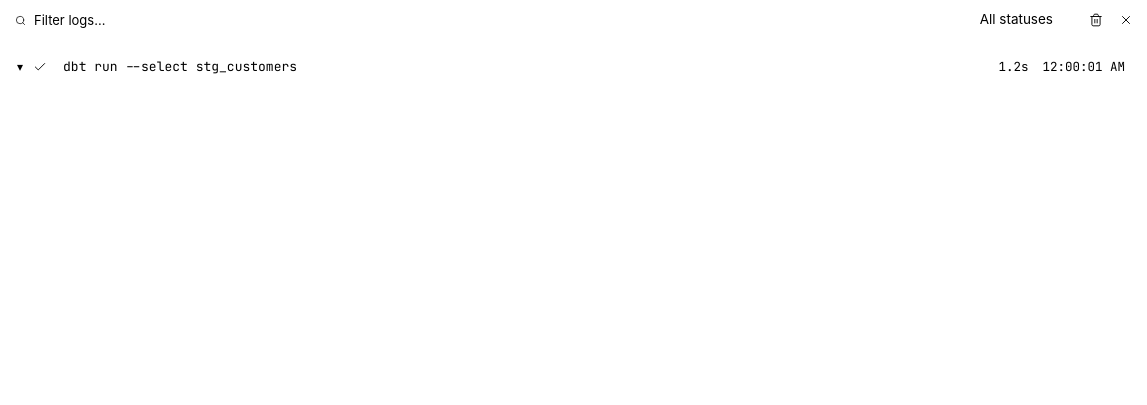
Test case: CommandLogsView › clears all logs via the clear button
Click the button titled "Clear logs" at (1096, 20), box left=1085, top=9, right=1107, bottom=31
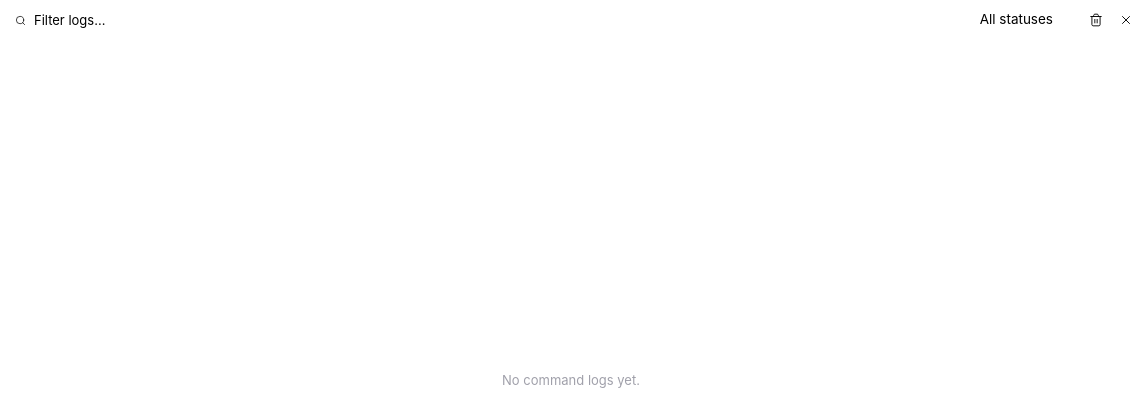
Result: the text "No command logs yet." is shown at left=502, top=372, right=640, bottom=388
